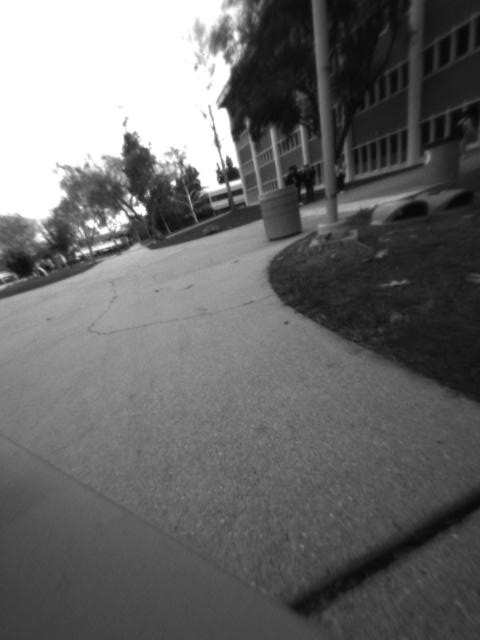trashcan: (256, 182, 304, 240), (419, 133, 462, 187)
